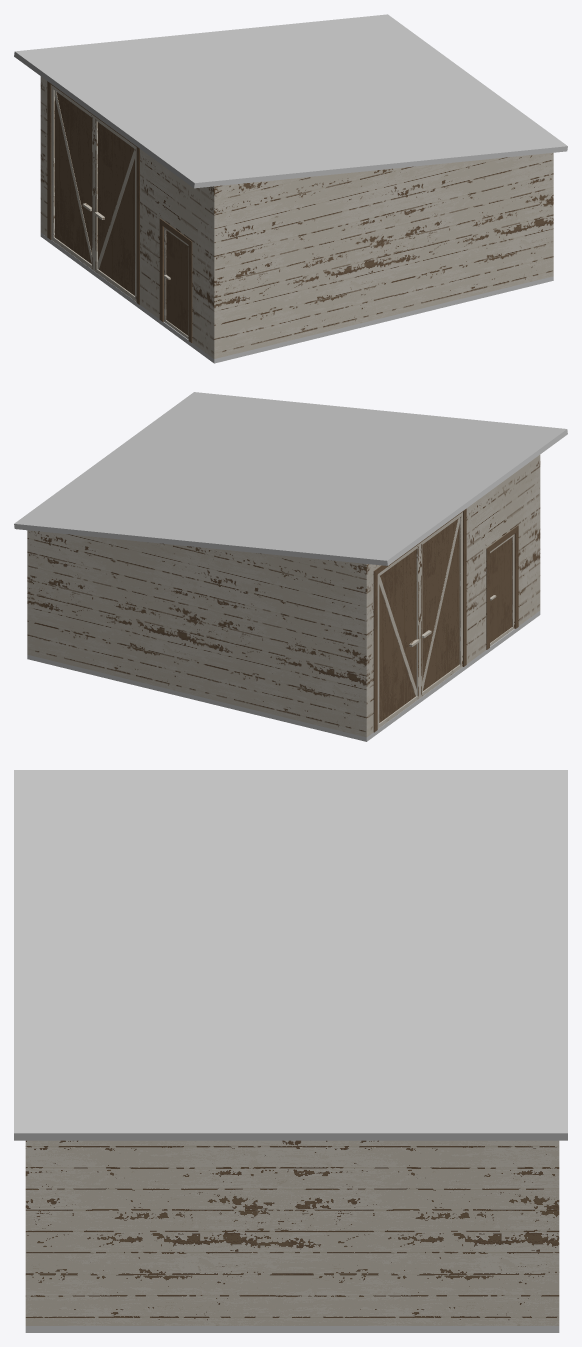
File: FishingGaraje.fbx
3 renders of one model, top to bottom at view 1: azimuth 30°, elevation 25°; view 2: azimuth 150°, elevation 25°; view 3: azimuth 270°, elevation 25°, orthographic. The views are drawn at different scales.
Visible parts, largest first — view 1: FermHaus.016, FermHaus.018, FarmDoor2.002, FarmDoor1.010, FermHaus.017, FarmDoor1.009; view 2: FermHaus.016, FermHaus.018, FarmDoor1.010, FarmDoor2.002, FermHaus.017, FarmDoor1.009; view 3: FermHaus.018, FermHaus.016, FermHaus.017.
Boxes of the visible parts, left/top/right/bottom form: FermHaus.016: left=40, top=76, right=553, bottom=358; FermHaus.018: left=14, top=14, right=567, bottom=188; FarmDoor2.002: left=51, top=85, right=94, bottom=270; FarmDoor1.010: left=94, top=116, right=136, bottom=301; FermHaus.017: left=40, top=232, right=553, bottom=363; FarmDoor1.009: left=164, top=227, right=188, bottom=339; FermHaus.016: left=27, top=455, right=540, bottom=737; FermHaus.018: left=14, top=392, right=567, bottom=565; FarmDoor1.010: left=420, top=512, right=462, bottom=697; FarmDoor2.002: left=377, top=543, right=419, bottom=728; FermHaus.017: left=27, top=611, right=540, bottom=741; FarmDoor1.009: left=490, top=534, right=514, bottom=646; FermHaus.018: left=14, top=770, right=567, bottom=1140; FermHaus.016: left=25, top=1140, right=559, bottom=1325; FermHaus.017: left=25, top=1326, right=559, bottom=1332.
Size of the model in its own units: 881 by 425 by 735.
